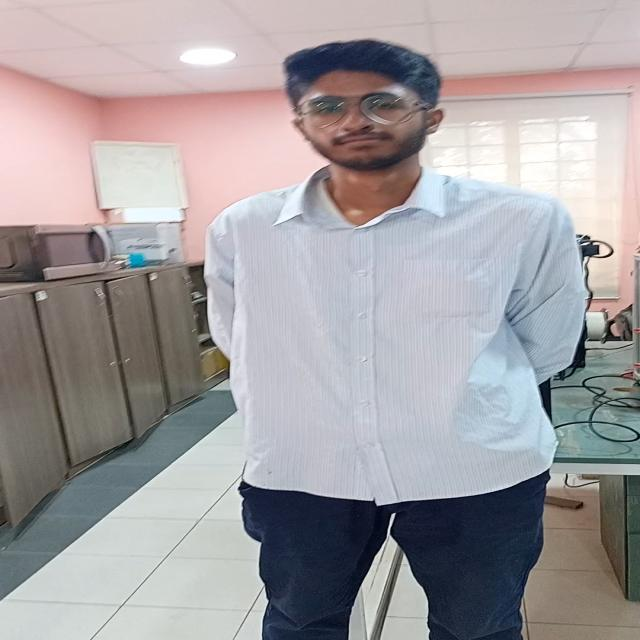dress: (197, 155, 590, 640)
glasses: (298, 94, 419, 130)
